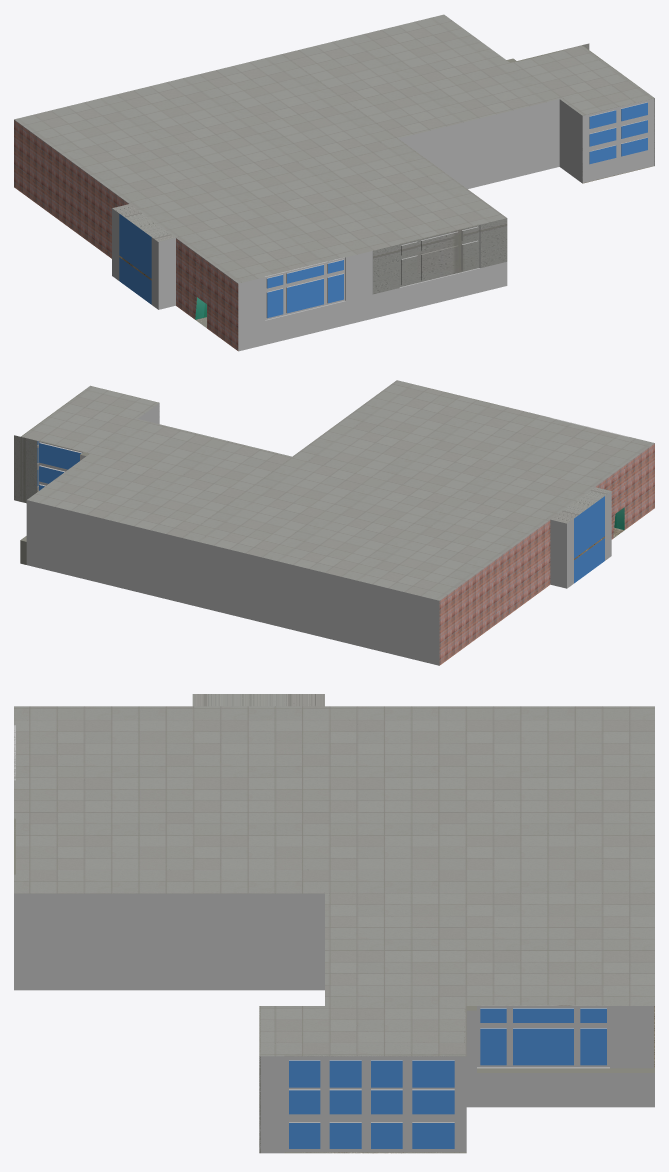
The model's file is ComedorFinalizado3.fbx.
3 renders of one model, top to bottom at view 1: azimuth 30°, elevation 25°; view 2: azimuth 150°, elevation 25°; view 3: azimuth 270°, elevation 25°, orthographic. The views are drawn at different scales.
Visible parts, largest first — view 1: Techo, Cube; view 2: Techo, Cube; view 3: Techo, Cube.
Part boxes in pixels (x1,y1,x2,y2): Techo: (14,14,654,283); Cube: (14,26,654,351); Techo: (22,380,654,600); Cube: (14,385,654,665); Techo: (14,694,654,1056); Cube: (14,725,654,1153).
Size of the model in its own units: 4877 by 600 by 3600.
